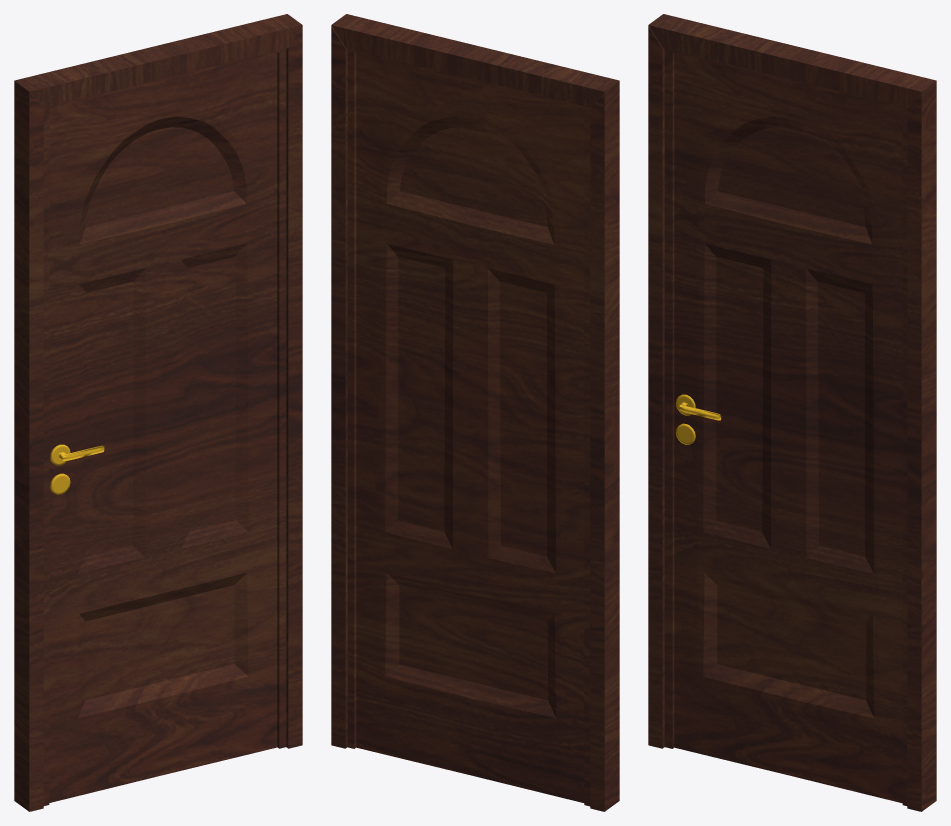
The model's file is PUERTA56_WINDSOR.glb.
3 views of the same model, side by side, from view 1: azimuth 30°, elevation 25°; view 2: azimuth 150°, elevation 25°; view 3: azimuth 330°, elevation 25° (orthographic).
Visible parts, largest first — view 1: Puerta56_WINDSOR, Puerta56_Marco, Puerta56_Cerradura; view 2: Puerta56_WINDSOR, Puerta56_Marco; view 3: Puerta56_WINDSOR, Puerta56_Marco, Puerta56_Cerradura.
Boxes of the visible parts, <box> form: Puerta56_WINDSOR: <box>43,49,286,805</box>; Puerta56_Marco: <box>14,14,302,811</box>; Puerta56_Cerradura: <box>50,444,104,494</box>; Puerta56_WINDSOR: <box>347,49,590,806</box>; Puerta56_Marco: <box>331,14,619,811</box>; Puerta56_WINDSOR: <box>664,49,907,805</box>; Puerta56_Marco: <box>648,14,936,811</box>; Puerta56_Cerradura: <box>675,394,721,444</box>.
Size of the model in its own units: 769 by 1936 by 85.
2 materials, 1 textured.
